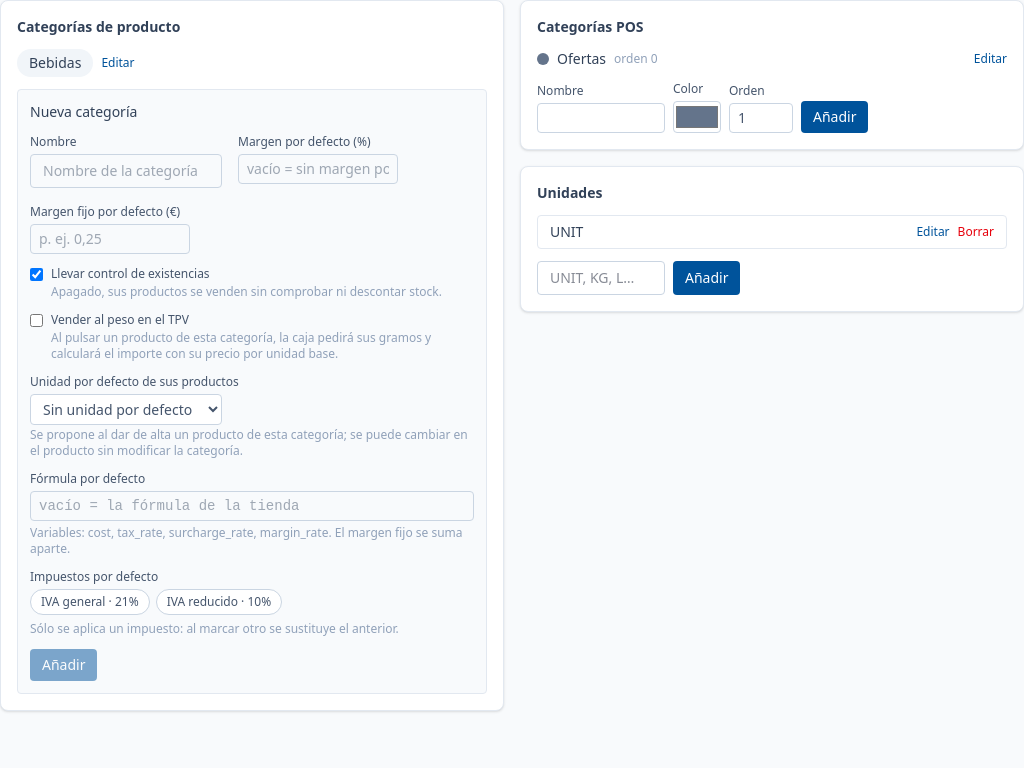
Test: CategoriesPage › renames and deletes an unused custom unit
expect the text "UNIT" is shown: met, box [550,222,583,242]
Click the button with aria-label "Editar unidad «UNIT»" at (933, 232), box [916,224,950,240]
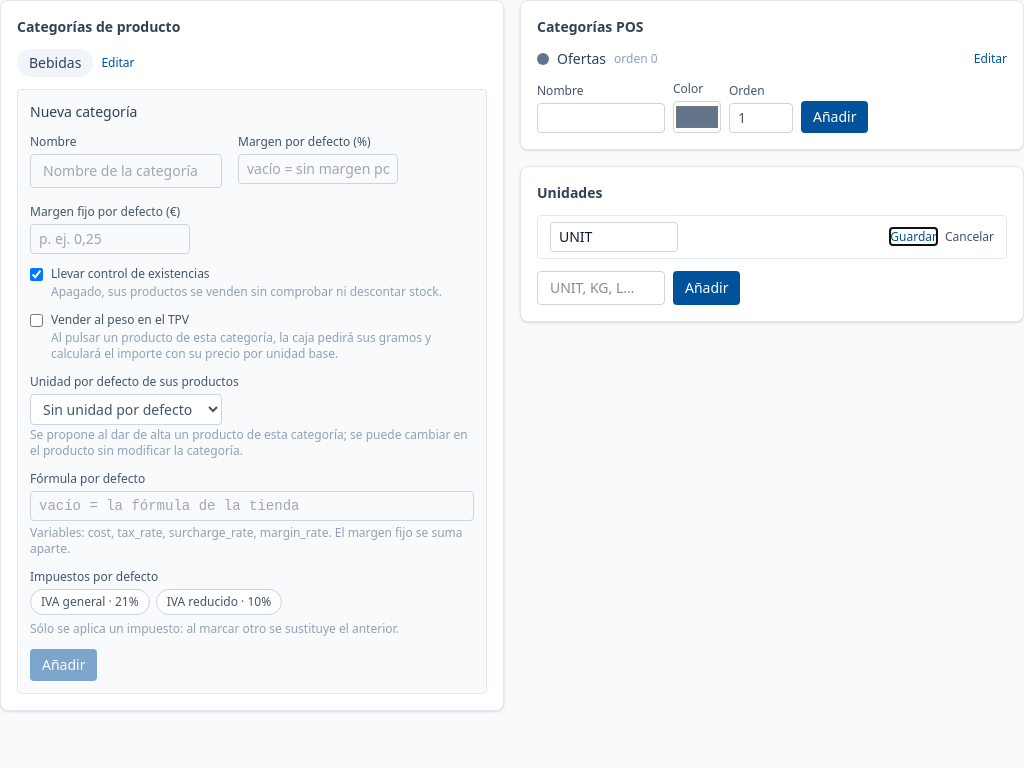
Replace the text in the field named "Nombre de la unidad «UNIT»" with "caja" at (614, 237), box [550,222,678,252]
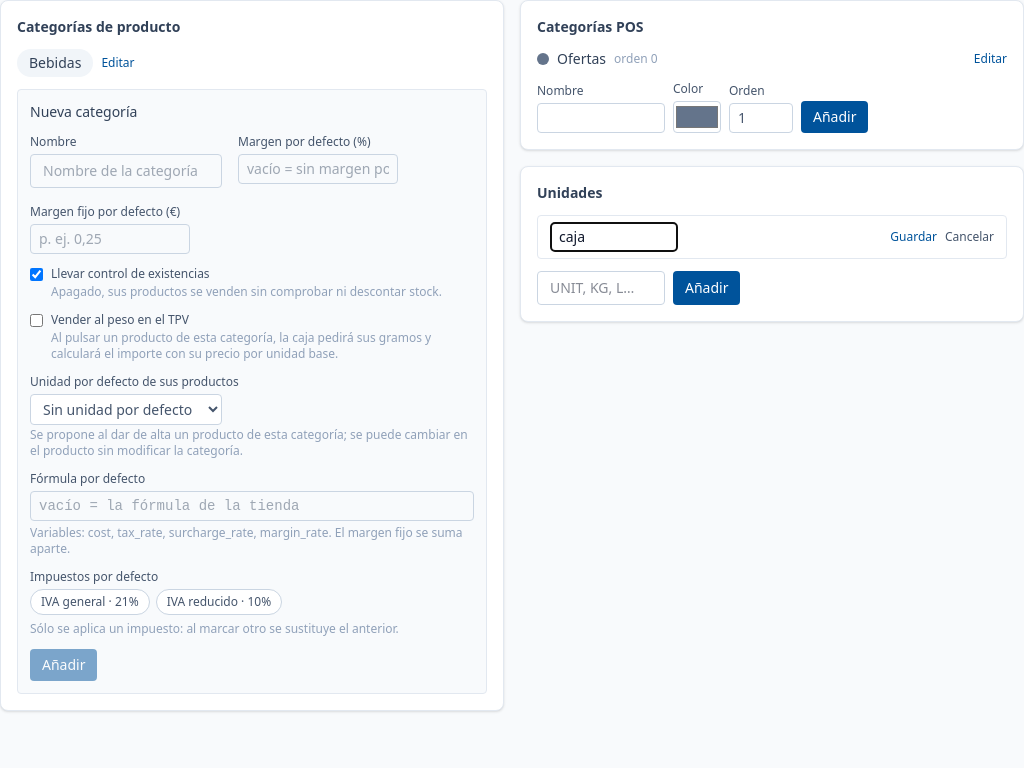
Click the button "Guardar" at (914, 237), box [890,229,937,245]
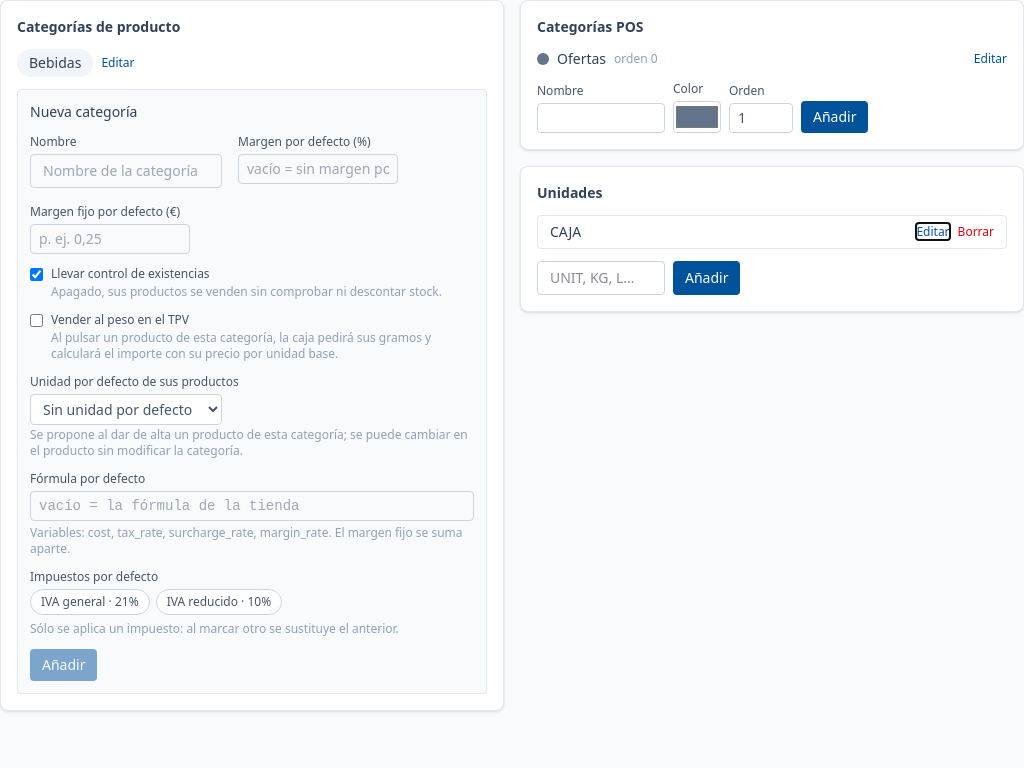
expect the text "CAJA" is shown: met, box [550,222,581,242]
Click the button with aria-label "Borrar unidad «CAJA»" at (976, 232), box [958,224,994,240]
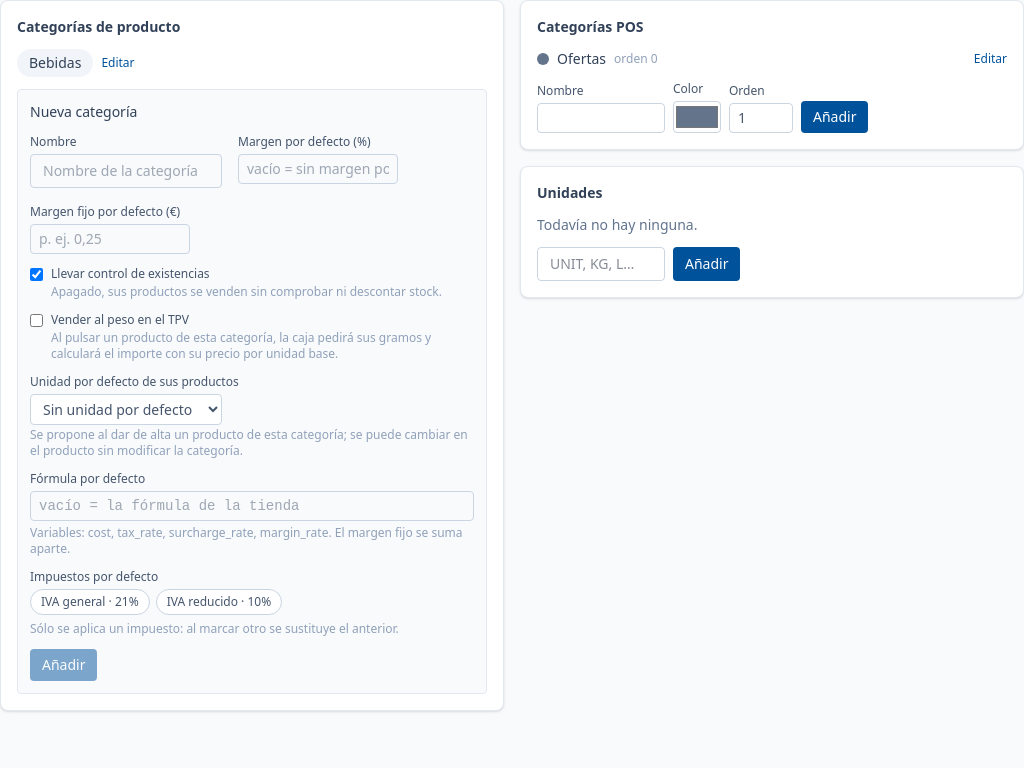
expect the text "Todavía no hay ninguna." is shown: met, box [537,215,698,234]
